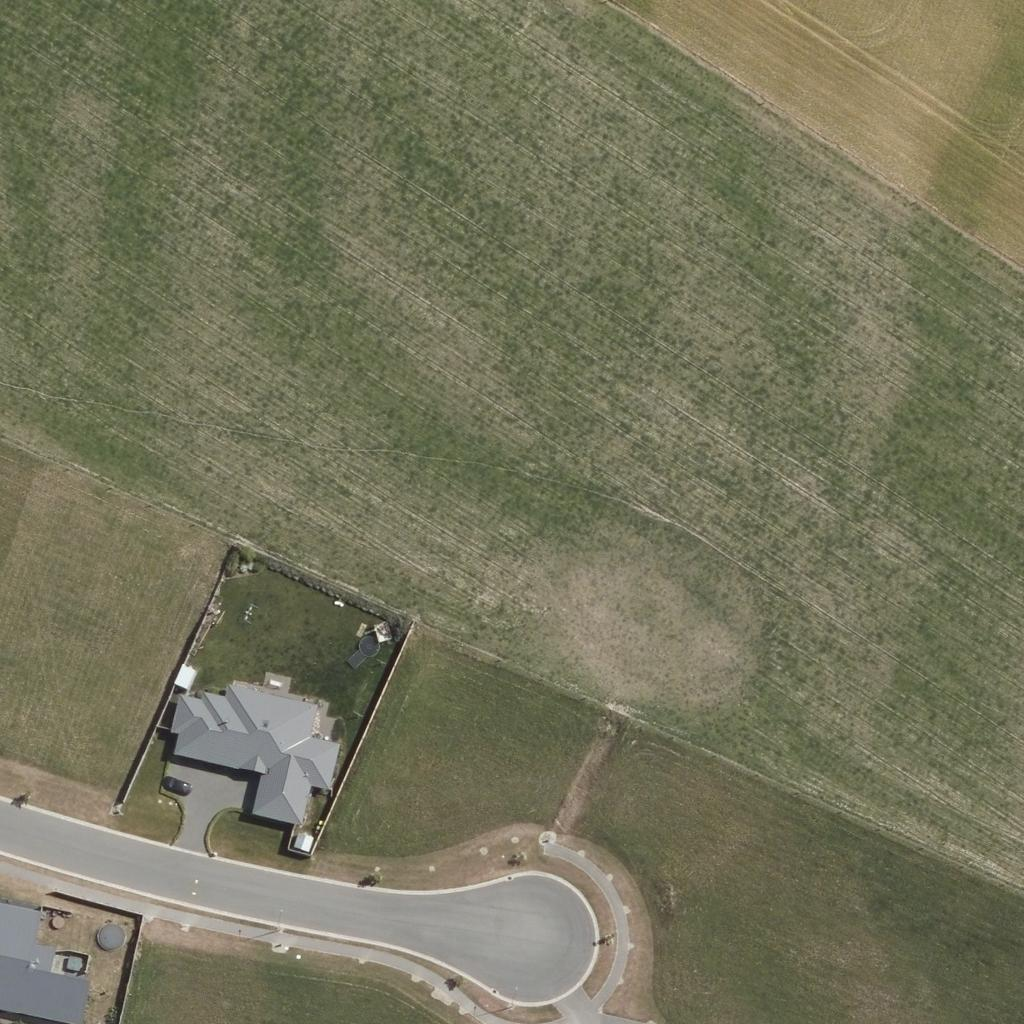car: (158, 766, 192, 800)
